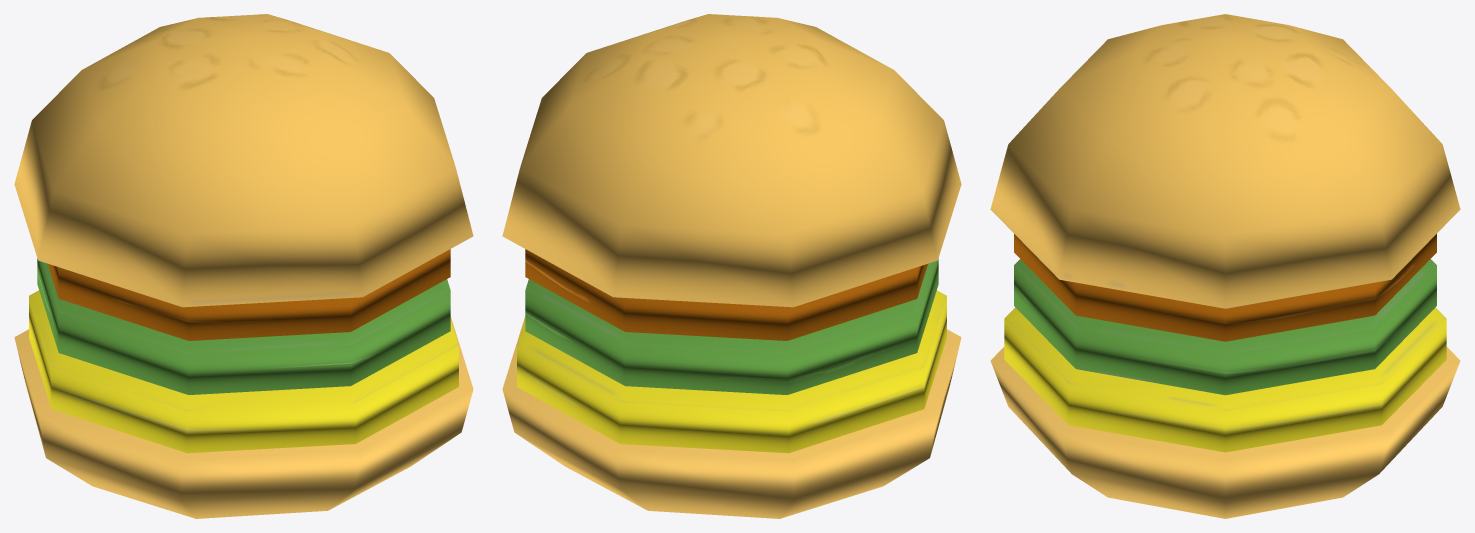
The model's file is Humburger.fbx.
3 views of the same model, side by side, from view 1: azimuth 30°, elevation 25°; view 2: azimuth 150°, elevation 25°; view 3: azimuth 270°, elevation 25° (orthographic).
Visible parts, largest first — view 1: Cylinder.002; view 2: Cylinder.002; view 3: Cylinder.002.
Boxes of the visible parts, box(x1,y1,x2,y2) form: Cylinder.002: box(14, 14, 473, 518); Cylinder.002: box(502, 14, 961, 518); Cylinder.002: box(990, 14, 1460, 518).
Bounding box in the file's own units: 10 × 9.55 × 10.
